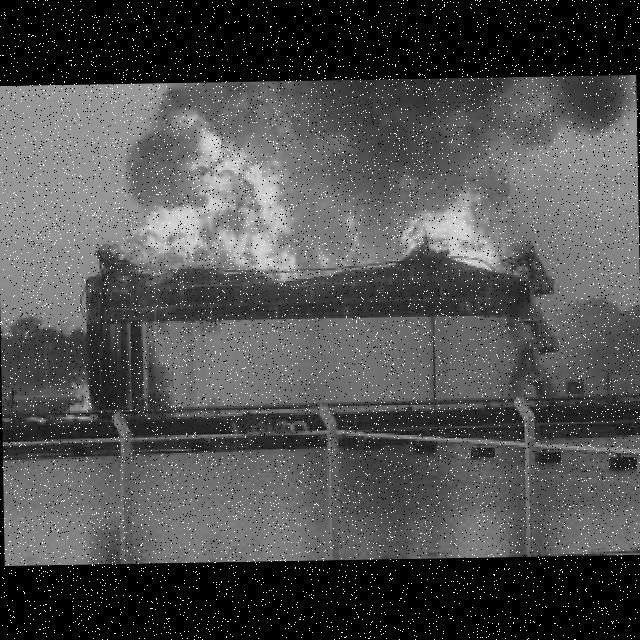Fire: (135, 107, 524, 284), (65, 374, 96, 417)
Smoke: (340, 75, 628, 178)
